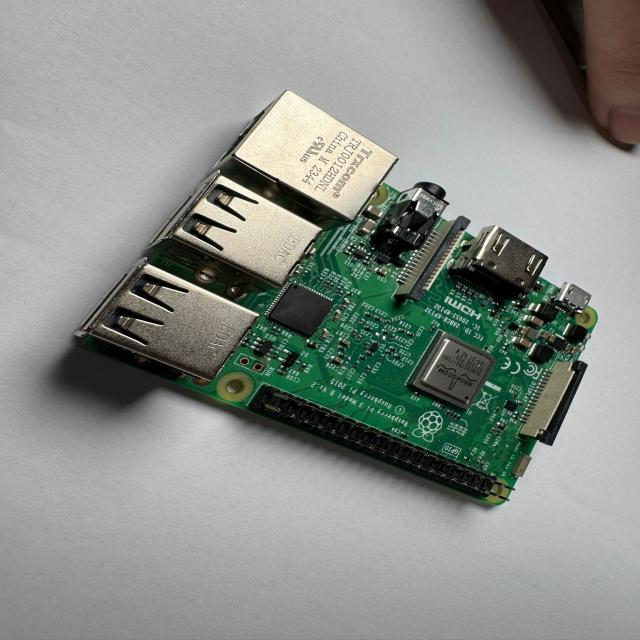CPU: (407, 332, 495, 413)
Ethernet: (232, 92, 398, 220)
HDMI: (452, 224, 549, 301)
RAM-3: (267, 284, 337, 342)
Raspberry: (73, 92, 599, 510)
